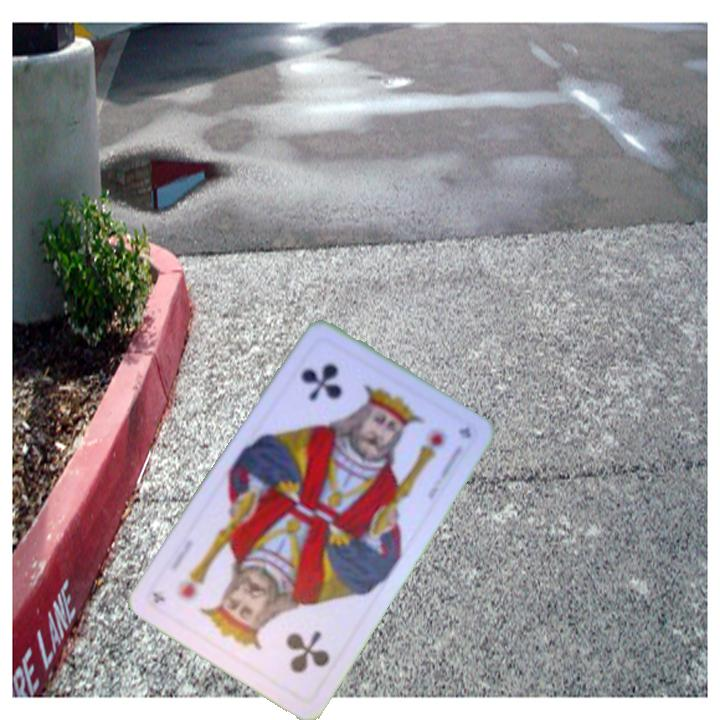c_k.png: (271, 331, 399, 455), (224, 581, 352, 705)
